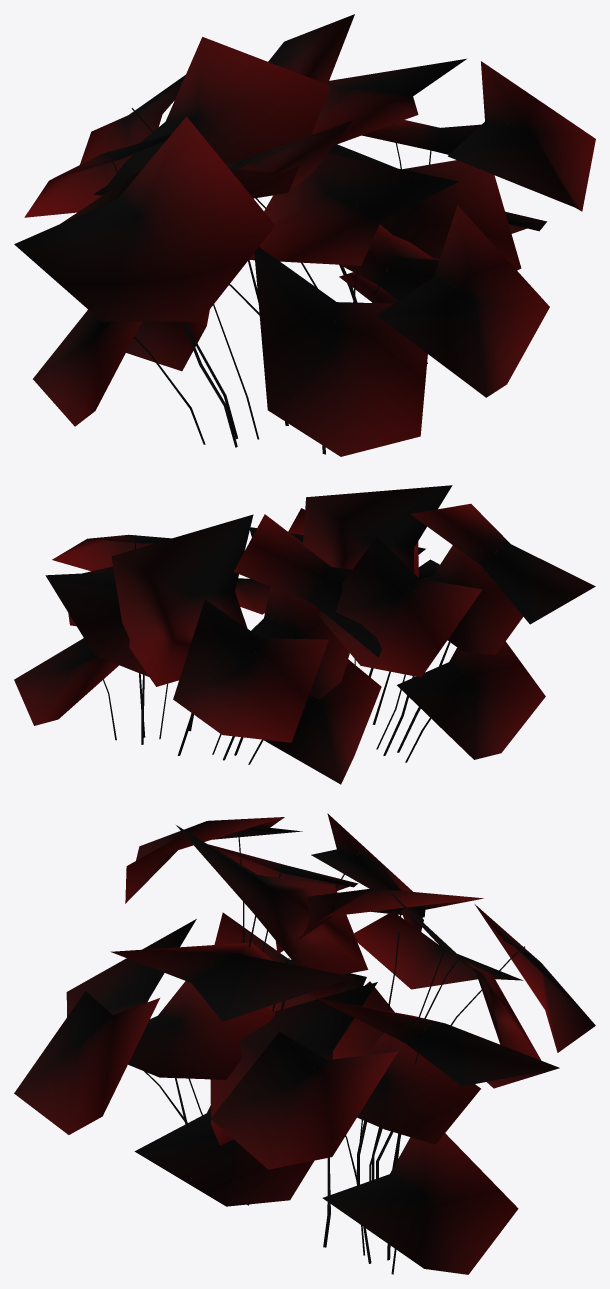
File: Bush03C.fbx
The picture shows the model from 3 angles, top to bottom: view 1: azimuth 30°, elevation 25°; view 2: azimuth 150°, elevation 25°; view 3: azimuth 270°, elevation 25°; orthographic projection. The views are drawn at different scales.
Parts seen in each view (by area): view 1: Bush03C; view 2: Bush03C; view 3: Bush03C.
Boxes of the visible parts, x1,y1,x2,y2 form: Bush03C: (14,14,595,456); Bush03C: (14,485,595,784); Bush03C: (14,813,595,1274).
Bounding box in the file's own units: 2.56 × 1.34 × 2.27.
